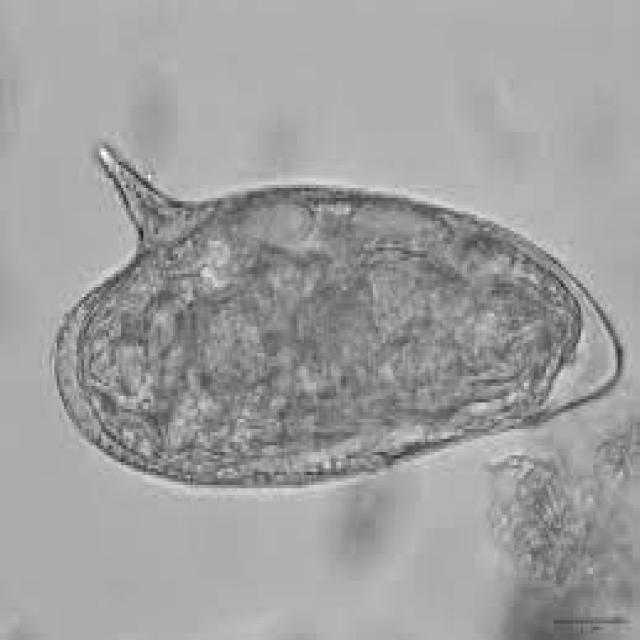Schistosoma: (38, 122, 629, 502)
